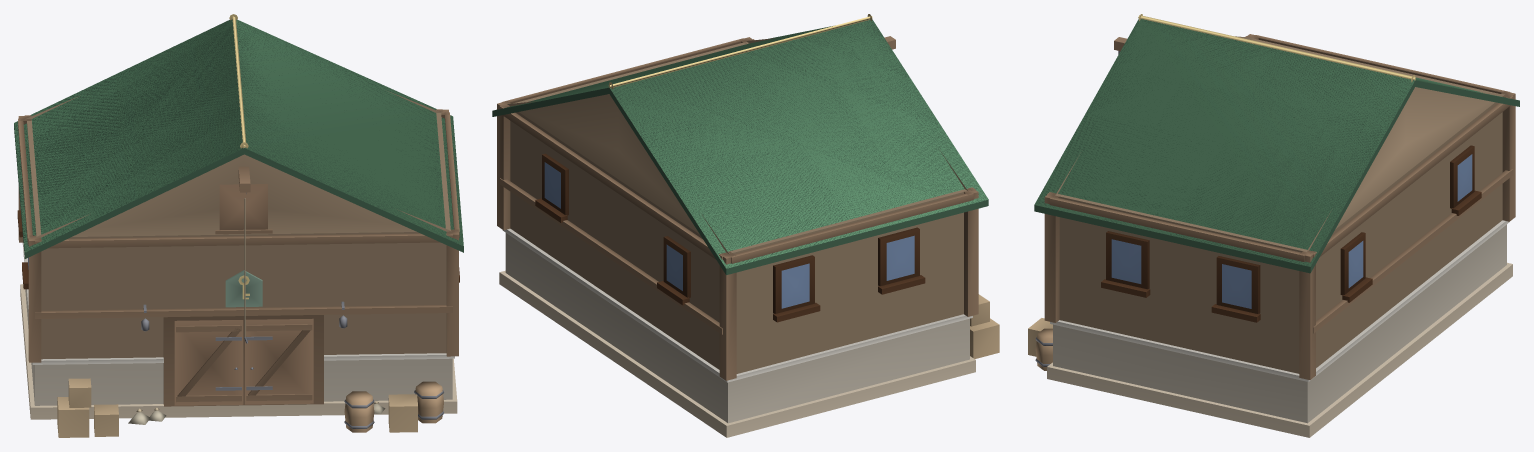
File: warehouse_lite.glb
3 renders of one model, left to right at view 1: azimuth 30°, elevation 25°; view 2: azimuth 150°, elevation 25°; view 3: azimuth 270°, elevation 25°, orthographic.
Visible parts, largest first — view 1: Ware_props, Ware_roof, Ware_stone; view 2: Ware_props, Ware_roof, Ware_stone; view 3: Ware_props, Ware_roof, Ware_stone.
Part boxes in pixels (x1,y1,x2,y2): Ware_props: (18,14,459,437); Ware_roof: (14,19,463,258); Ware_stone: (17,210,459,419); Ware_props: (497,14,999,380); Ware_roof: (492,19,988,274); Ware_stone: (499,153,975,437); Ware_props: (1028,14,1515,379); Ware_roof: (1034,19,1519,273); Ware_stone: (1047,145,1512,437).
Size of the model in its own units: 12.1 by 6.97 by 11.01.
